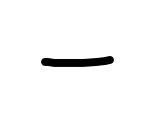minus: (41, 56, 114, 67)
